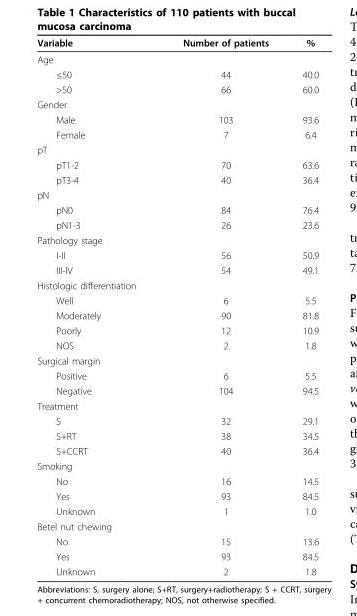table: (36, 36, 317, 576)
table column: (158, 36, 284, 576), (36, 36, 158, 576), (284, 36, 317, 576)
table column header: (36, 36, 317, 50)
table projected row header: (36, 50, 317, 66), (36, 141, 317, 157), (36, 96, 317, 111), (36, 187, 317, 202), (36, 232, 317, 247), (36, 277, 317, 292), (36, 352, 317, 367), (36, 398, 317, 413), (36, 458, 317, 473), (36, 518, 317, 533)
table row: (36, 50, 317, 66), (36, 141, 317, 157), (36, 382, 317, 398), (36, 66, 317, 81), (36, 81, 317, 96), (36, 96, 317, 111), (36, 111, 317, 126), (36, 126, 317, 141), (36, 157, 317, 172), (36, 172, 317, 187), (36, 187, 317, 202), (36, 202, 317, 217), (36, 217, 317, 232), (36, 232, 317, 247), (36, 247, 317, 262), (36, 262, 317, 277), (36, 277, 317, 292), (36, 292, 317, 307), (36, 307, 317, 322), (36, 322, 317, 337), (36, 337, 317, 352), (36, 352, 317, 367), (36, 367, 317, 382), (36, 398, 317, 413), (36, 413, 317, 428), (36, 428, 317, 443), (36, 443, 317, 458), (36, 458, 317, 473), (36, 473, 317, 488), (36, 488, 317, 503), (36, 503, 317, 518), (36, 518, 317, 533), (36, 533, 317, 548), (36, 548, 317, 563), (36, 36, 317, 50), (36, 563, 317, 576)
